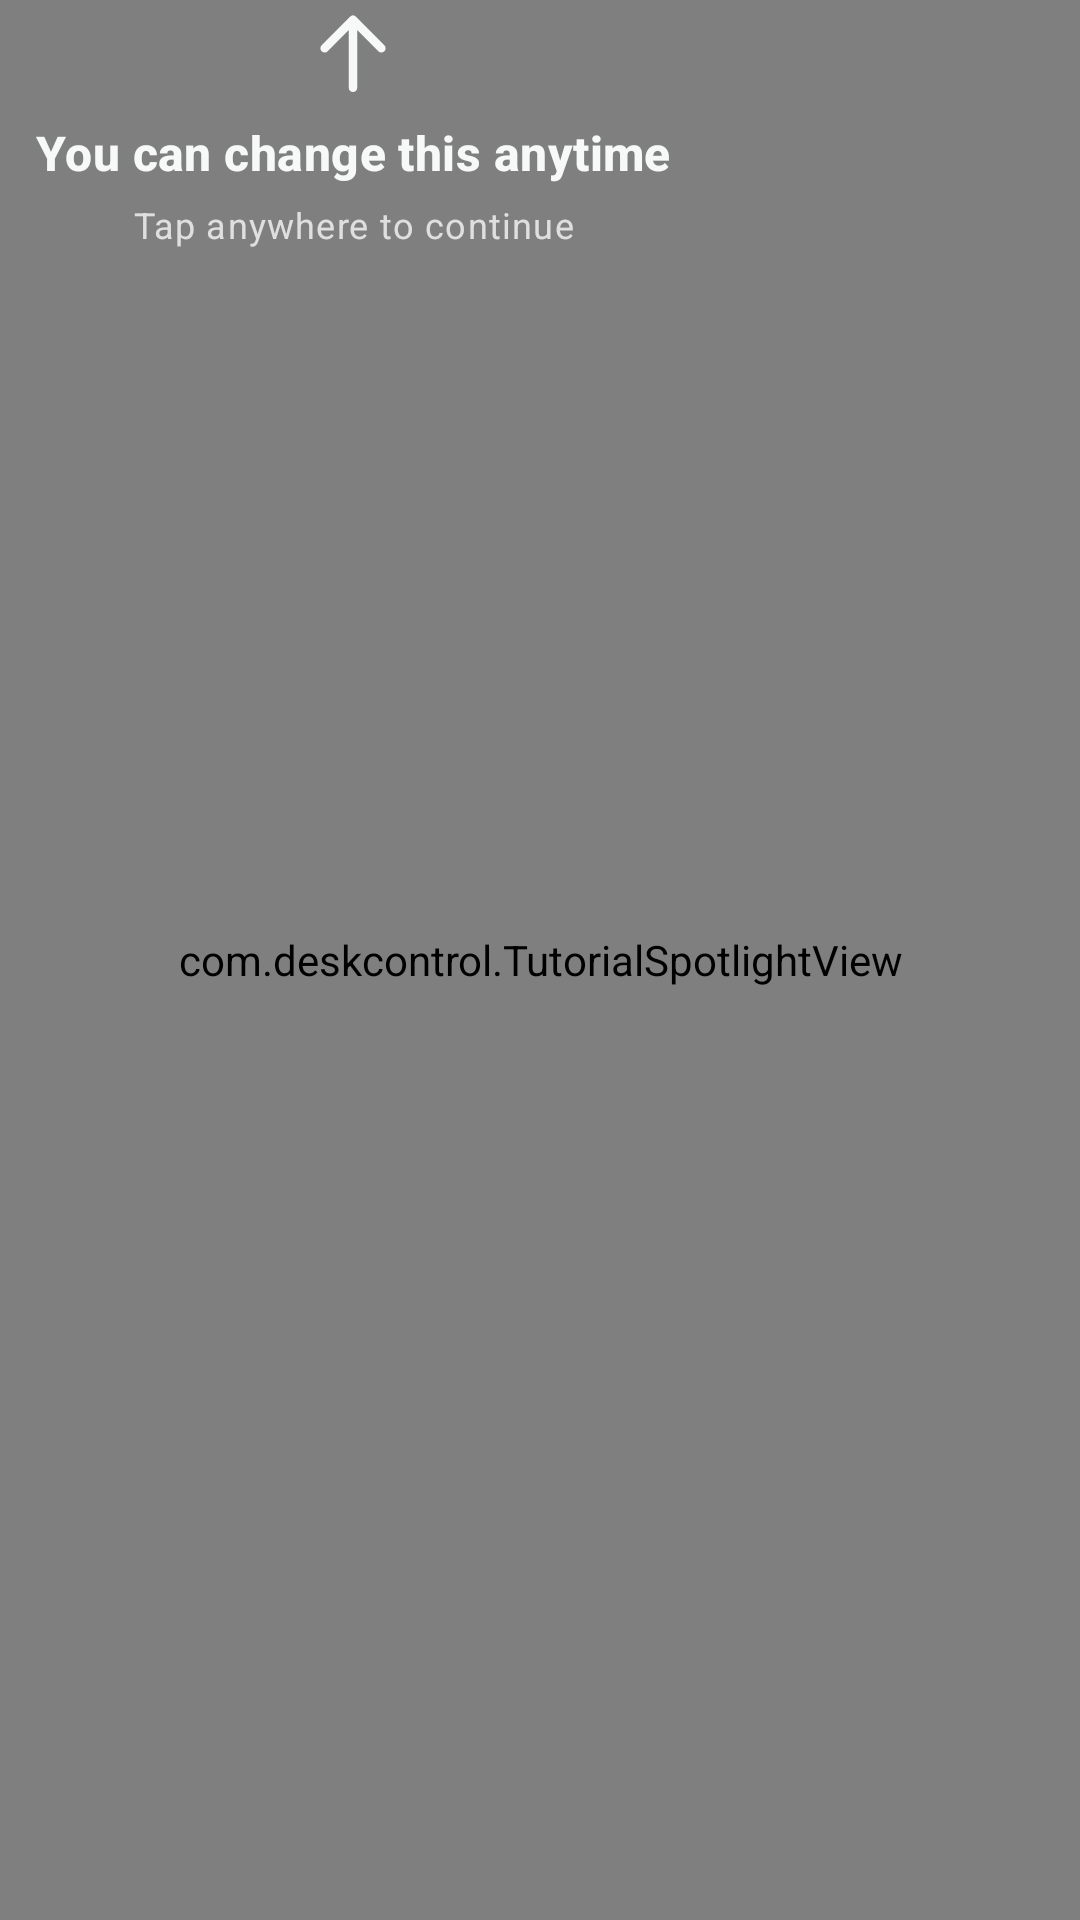

Named icons in this screenshot (1080 x 1920) and their centers, (x=x, y=y):
intro arrow up: (x=353, y=53)
